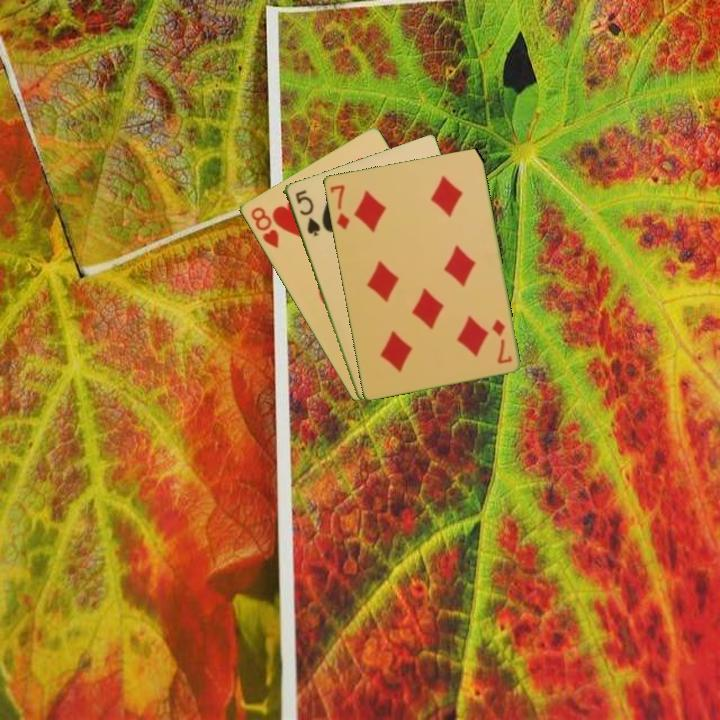5s: (291, 186, 323, 239)
7d: (488, 315, 515, 367), (326, 181, 352, 232)
8h: (247, 203, 282, 251)
